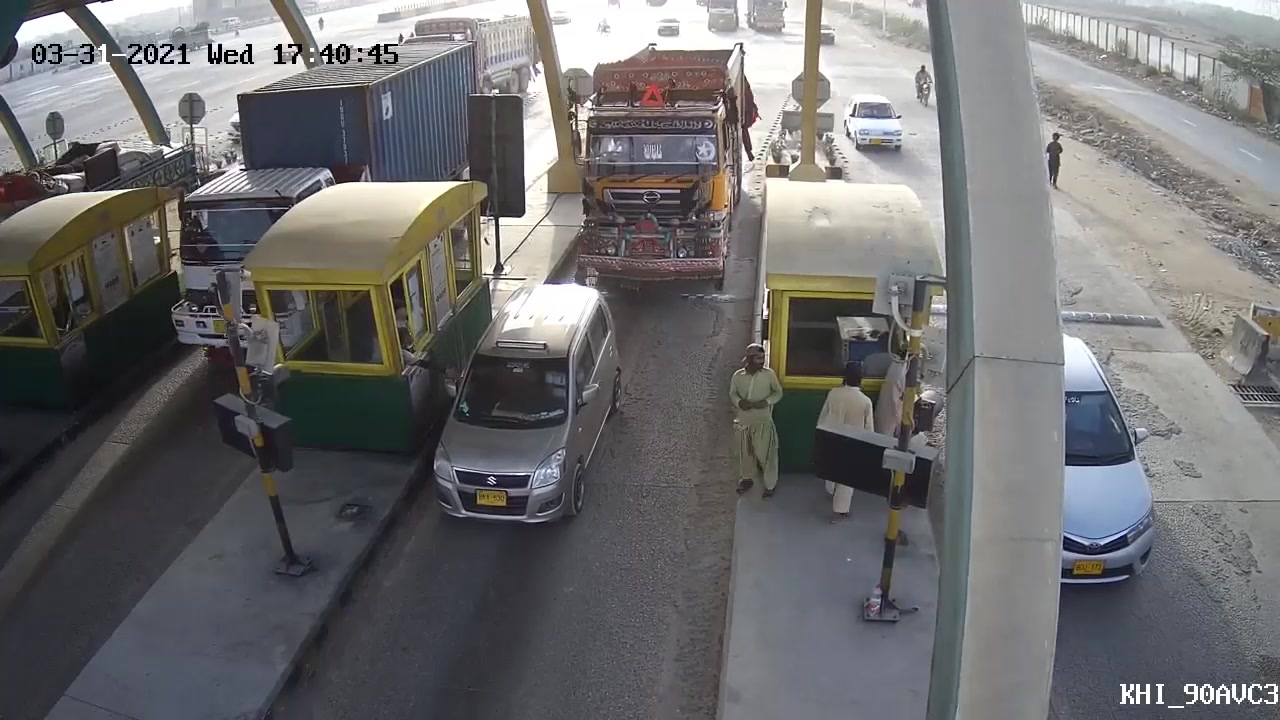F1: (430, 283, 622, 536)
F5: (570, 35, 755, 289)
